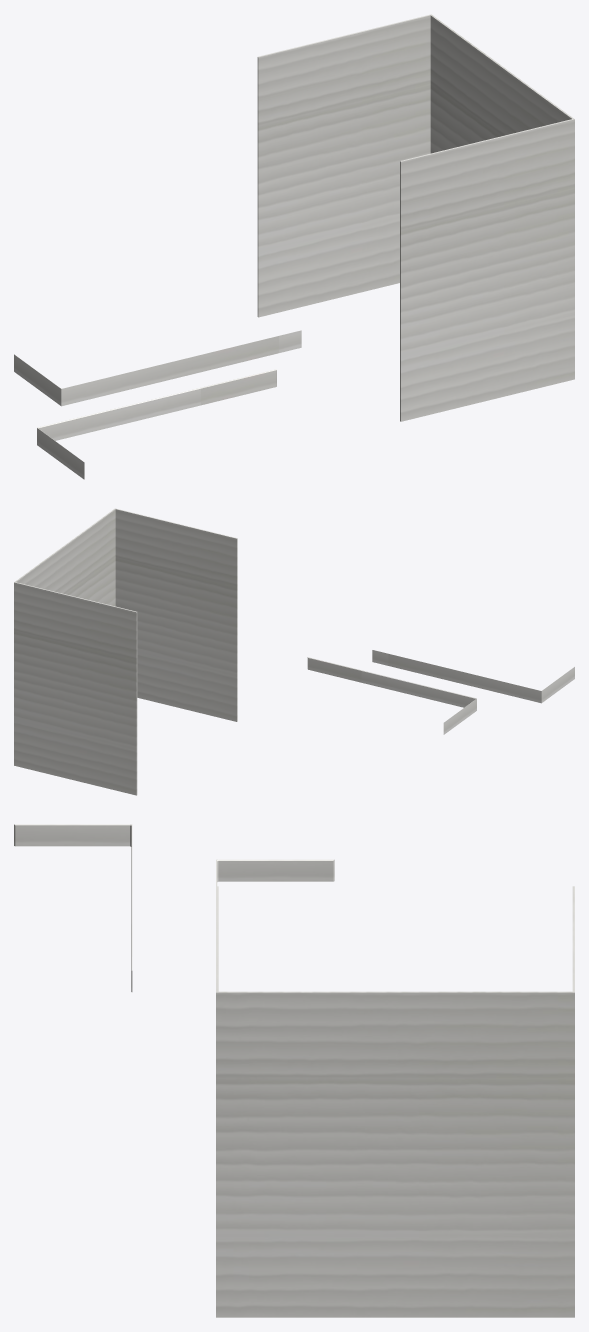
File: 2345_bathroom_BP_Linear_white.gltf
The picture shows the model from 3 angles, top to bottom: view 1: azimuth 30°, elevation 25°; view 2: azimuth 150°, elevation 25°; view 3: azimuth 270°, elevation 25°; orthographic projection. The views are drawn at different scales.
Parts seen in each view (by area): view 1: Center_Linear_white.001; view 2: Center_Linear_white.001; view 3: Center_Linear_white.001.
Part boxes in pixels (x1,y1,x2,y2): Center_Linear_white.001: (14,14,574,479); Center_Linear_white.001: (14,508,574,795); Center_Linear_white.001: (14,824,574,1317).
Size of the model in its own units: 6.9 by 3 by 4.69.
1 material, 1 textured.
